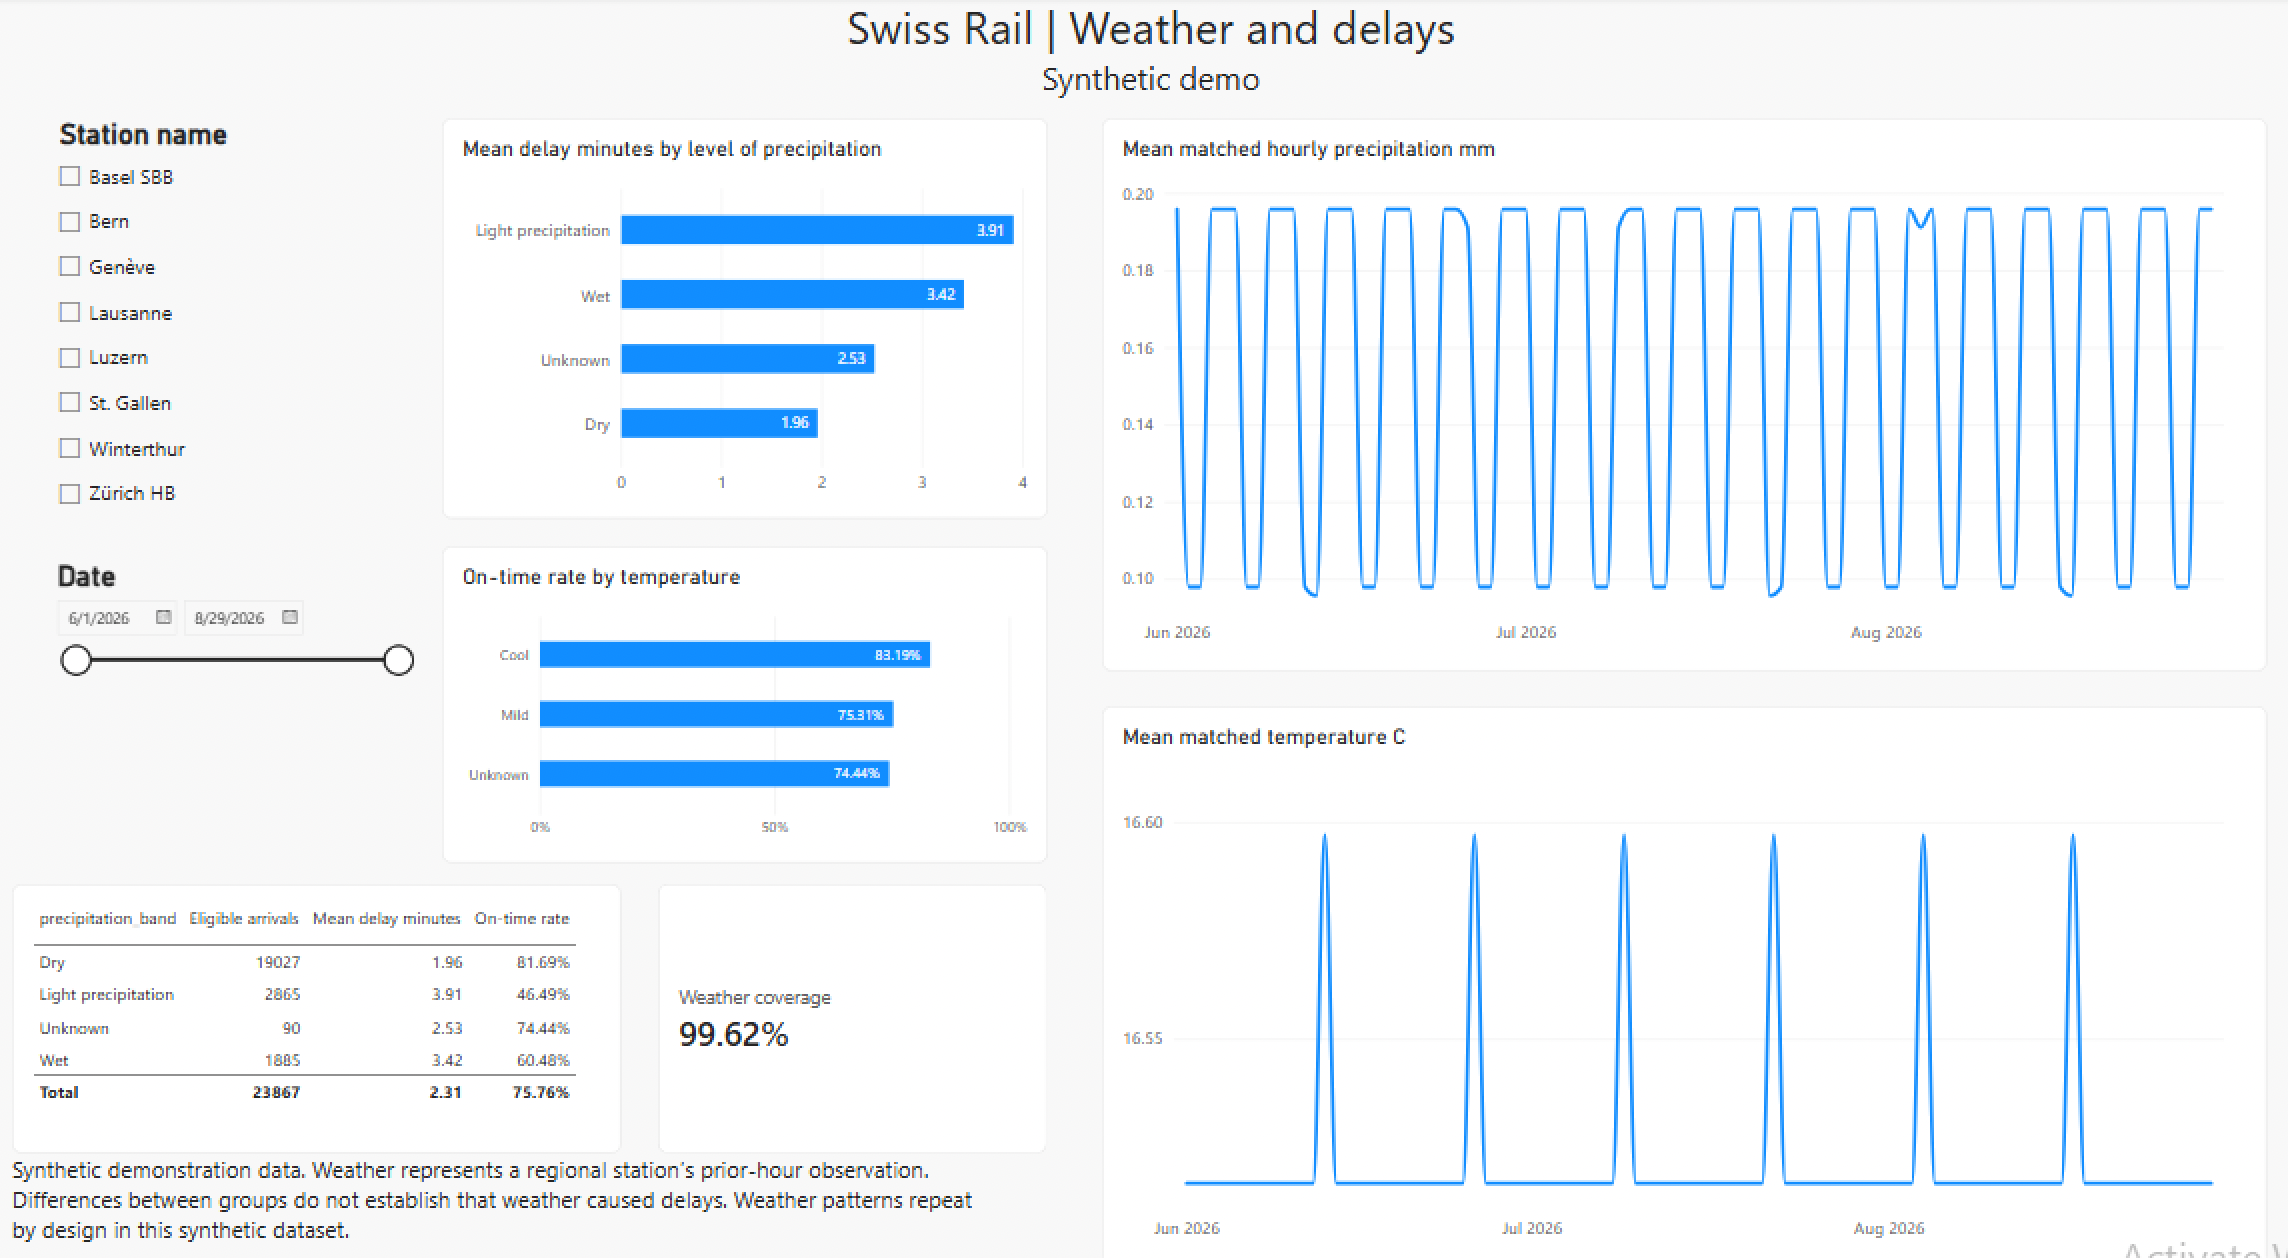

This screenshot's page, from the dashboard's own definition file:
{"tool":"powerbi","page":{"name":"Weather and delays","canvas":[1920,1080],"ordinal":1},"visuals":[{"type":"textbox","box":[9.5,0,1910.5,102.7],"z":0},{"type":"clusteredBarChart","title":"Mean delay minutes by level of precipitation","fields":{"Category":["fct_stop_event.precipitation_band"],"Y":["fct_stop_event.Mean delay minutes"]},"box":[370.7,102.7,507.6,336.5],"z":1},{"type":"tableEx","fields":{"Values":["fct_stop_event.precipitation_band","fct_stop_event.Eligible arrivals","fct_stop_event.Mean delay minutes","fct_stop_event.On-time rate"]},"box":[9.5,745.2,511.4,226.2],"z":2},{"type":"textbox","box":[9.5,971.4,825,93.1],"z":3},{"type":"cardVisual","fields":{"Data":["fct_stop_event.Weather coverage"]},"box":[551.3,745.2,327,226.2],"z":4},{"type":"clusteredBarChart","title":"On-time rate by temperature","fields":{"Category":["fct_stop_event.temperature_band"],"Y":["fct_stop_event.On-time rate"]},"box":[370.7,461.9,507.6,266.1],"z":5},{"type":"lineChart","title":"Mean matched temperature C","fields":{"Category":["dim_date.date_id.Variation.Date Hierarchy.Year","dim_date.date_id.Variation.Date Hierarchy.Quarter","dim_date.date_id.Variation.Date Hierarchy.Month","dim_date.date_id.Variation.Date Hierarchy.Day"],"Y":["fct_stop_event.Mean matched temperature C"]},"box":[923.9,595,977.1,469.5],"z":6},{"type":"lineChart","title":"Mean matched hourly precipitation mm","fields":{"Category":["dim_date.date_id.Variation.Date Hierarchy.Year","dim_date.date_id.Variation.Date Hierarchy.Quarter","dim_date.date_id.Variation.Date Hierarchy.Month","dim_date.date_id.Variation.Date Hierarchy.Day"],"Y":["fct_stop_event.Mean matched hourly precipitation mm"]},"box":[923.9,102.7,977.1,463.8],"z":7},{"type":"slicer","fields":{"Values":["dim_station.station_name"]},"box":[41.8,102.7,224.3,336.5],"z":8},{"type":"slicer","fields":{"Values":["dim_date.date_id"]},"box":[39.9,473.3,309.9,271.8],"z":9}]}

Visuals, with their boxes in screenshot pixels (x1, y1, x2, y2), scaled from the page's 1920x1080 canvas onto the 2288x1258 screenshot:
textbox: <bbox>11, 0, 2287, 120</bbox>
"Mean delay minutes by level of precipitation" clusteredBarChart: <bbox>442, 120, 1047, 512</bbox>
tableEx - fct_stop_event.precipitation_band x fct_stop_event.Eligible arrivals: <bbox>11, 868, 621, 1132</bbox>
textbox: <bbox>11, 1132, 994, 1240</bbox>
cardVisual - fct_stop_event.Weather coverage: <bbox>657, 868, 1047, 1132</bbox>
"On-time rate by temperature" clusteredBarChart: <bbox>442, 538, 1047, 848</bbox>
"Mean matched temperature C" lineChart: <bbox>1101, 693, 2265, 1240</bbox>
"Mean matched hourly precipitation mm" lineChart: <bbox>1101, 120, 2265, 660</bbox>
slicer - dim_station.station_name: <bbox>50, 120, 317, 512</bbox>
slicer - dim_date.date_id: <bbox>48, 551, 417, 868</bbox>
